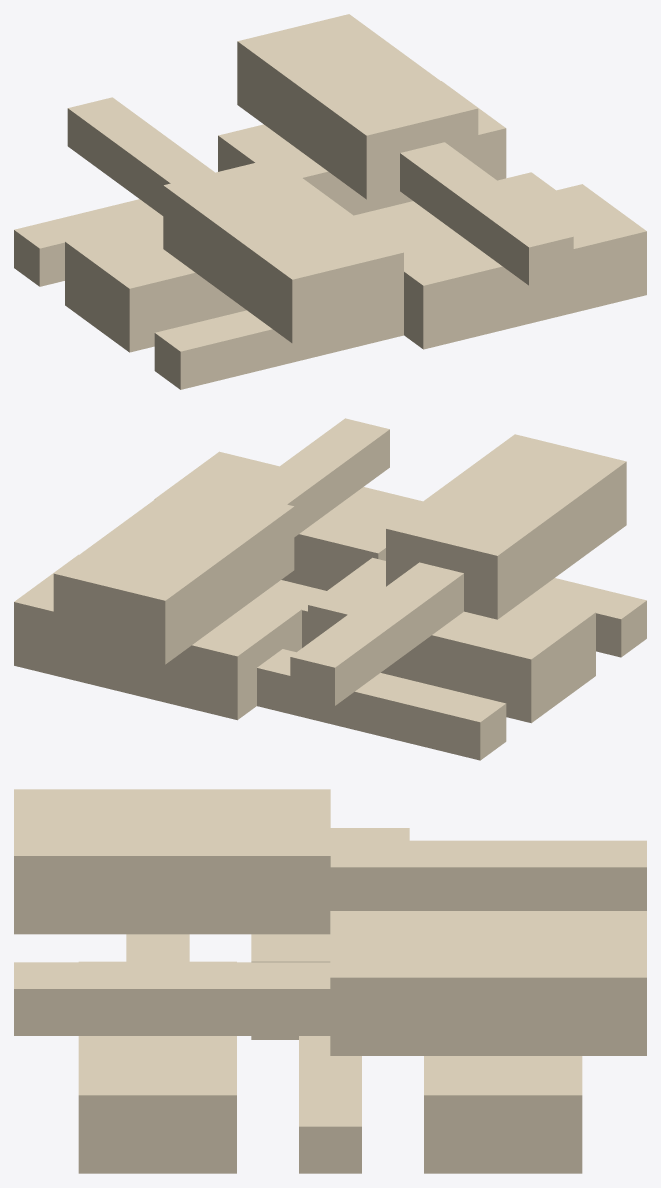
Rendered from prop-spoon-blank-stack.fbx.
The picture shows the model from 3 angles, top to bottom: view 1: azimuth 30°, elevation 25°; view 2: azimuth 150°, elevation 25°; view 3: azimuth 270°, elevation 25°; orthographic projection. The views are drawn at different scales.
Parts seen in each view (by area): view 1: prop-spoon-blank-stack; view 2: prop-spoon-blank-stack; view 3: prop-spoon-blank-stack.
Part boxes in pixels (left/top/right/bottom): prop-spoon-blank-stack: left=14, top=14, right=646, bottom=389; prop-spoon-blank-stack: left=14, top=418, right=646, bottom=760; prop-spoon-blank-stack: left=14, top=789, right=646, bottom=1173.
Size of the model in its own units: 22 by 6 by 22.
